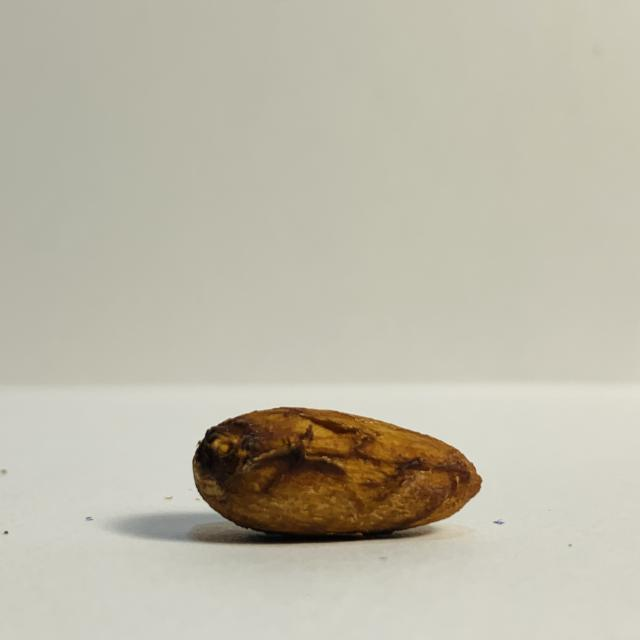Fine_cocoabeans: (130, 379, 518, 571)
